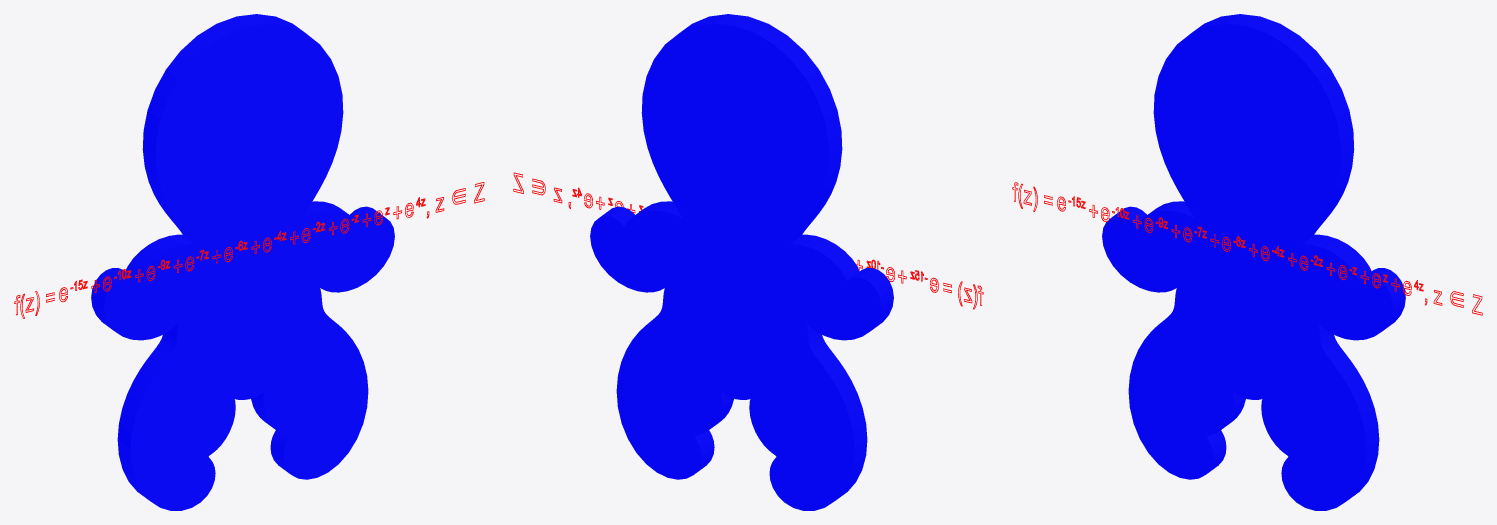
File: StrongManFn.glb
3 renders of one model, left to right at view 1: azimuth 30°, elevation 25°; view 2: azimuth 150°, elevation 25°; view 3: azimuth 330°, elevation 25°, orthographic.
Bounding box in the file's own units: 1.05 × 1 × 0.051.
